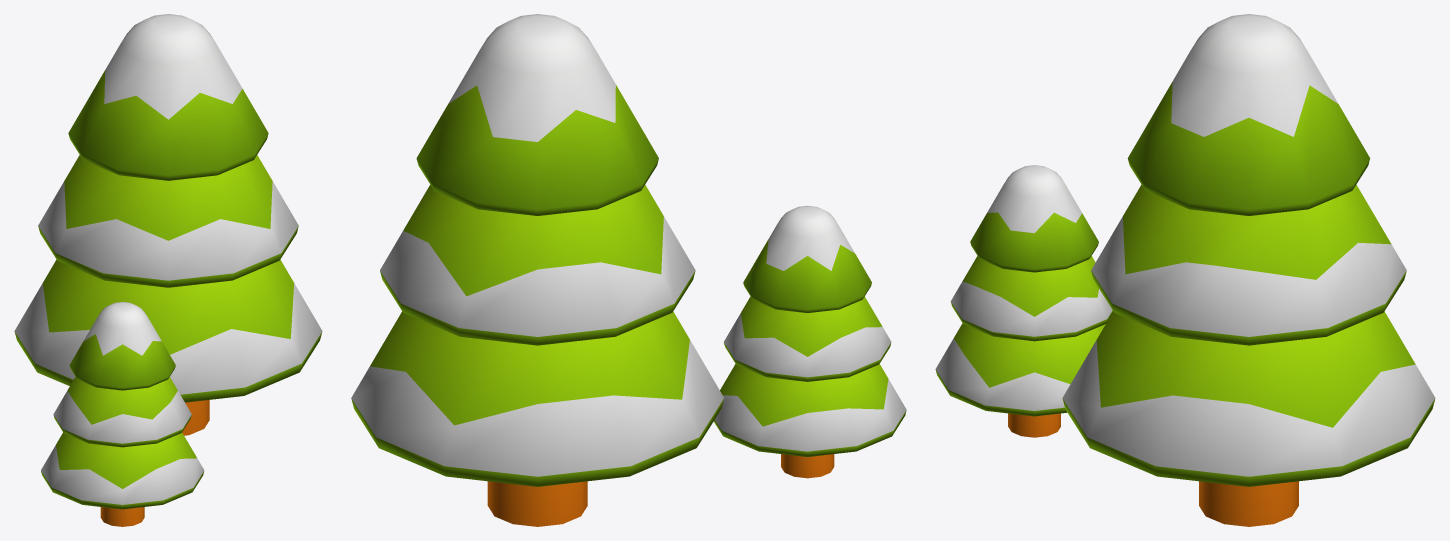
Rendered from Plant_Tree_Ice_01A.fbx.
3 renders of one model, left to right at view 1: azimuth 30°, elevation 25°; view 2: azimuth 150°, elevation 25°; view 3: azimuth 270°, elevation 25°, orthographic. The views are drawn at different scales.
Visible parts, largest first — view 1: Plant_Tree_Ice_01A; view 2: Plant_Tree_Ice_01A; view 3: Plant_Tree_Ice_01A.
Boxes of the visible parts, x1,y1,x2,y2 form: Plant_Tree_Ice_01A: (14, 14, 322, 526); Plant_Tree_Ice_01A: (351, 14, 906, 526); Plant_Tree_Ice_01A: (935, 14, 1435, 526).
Bounding box in the file's own units: 171 × 192 × 181.
